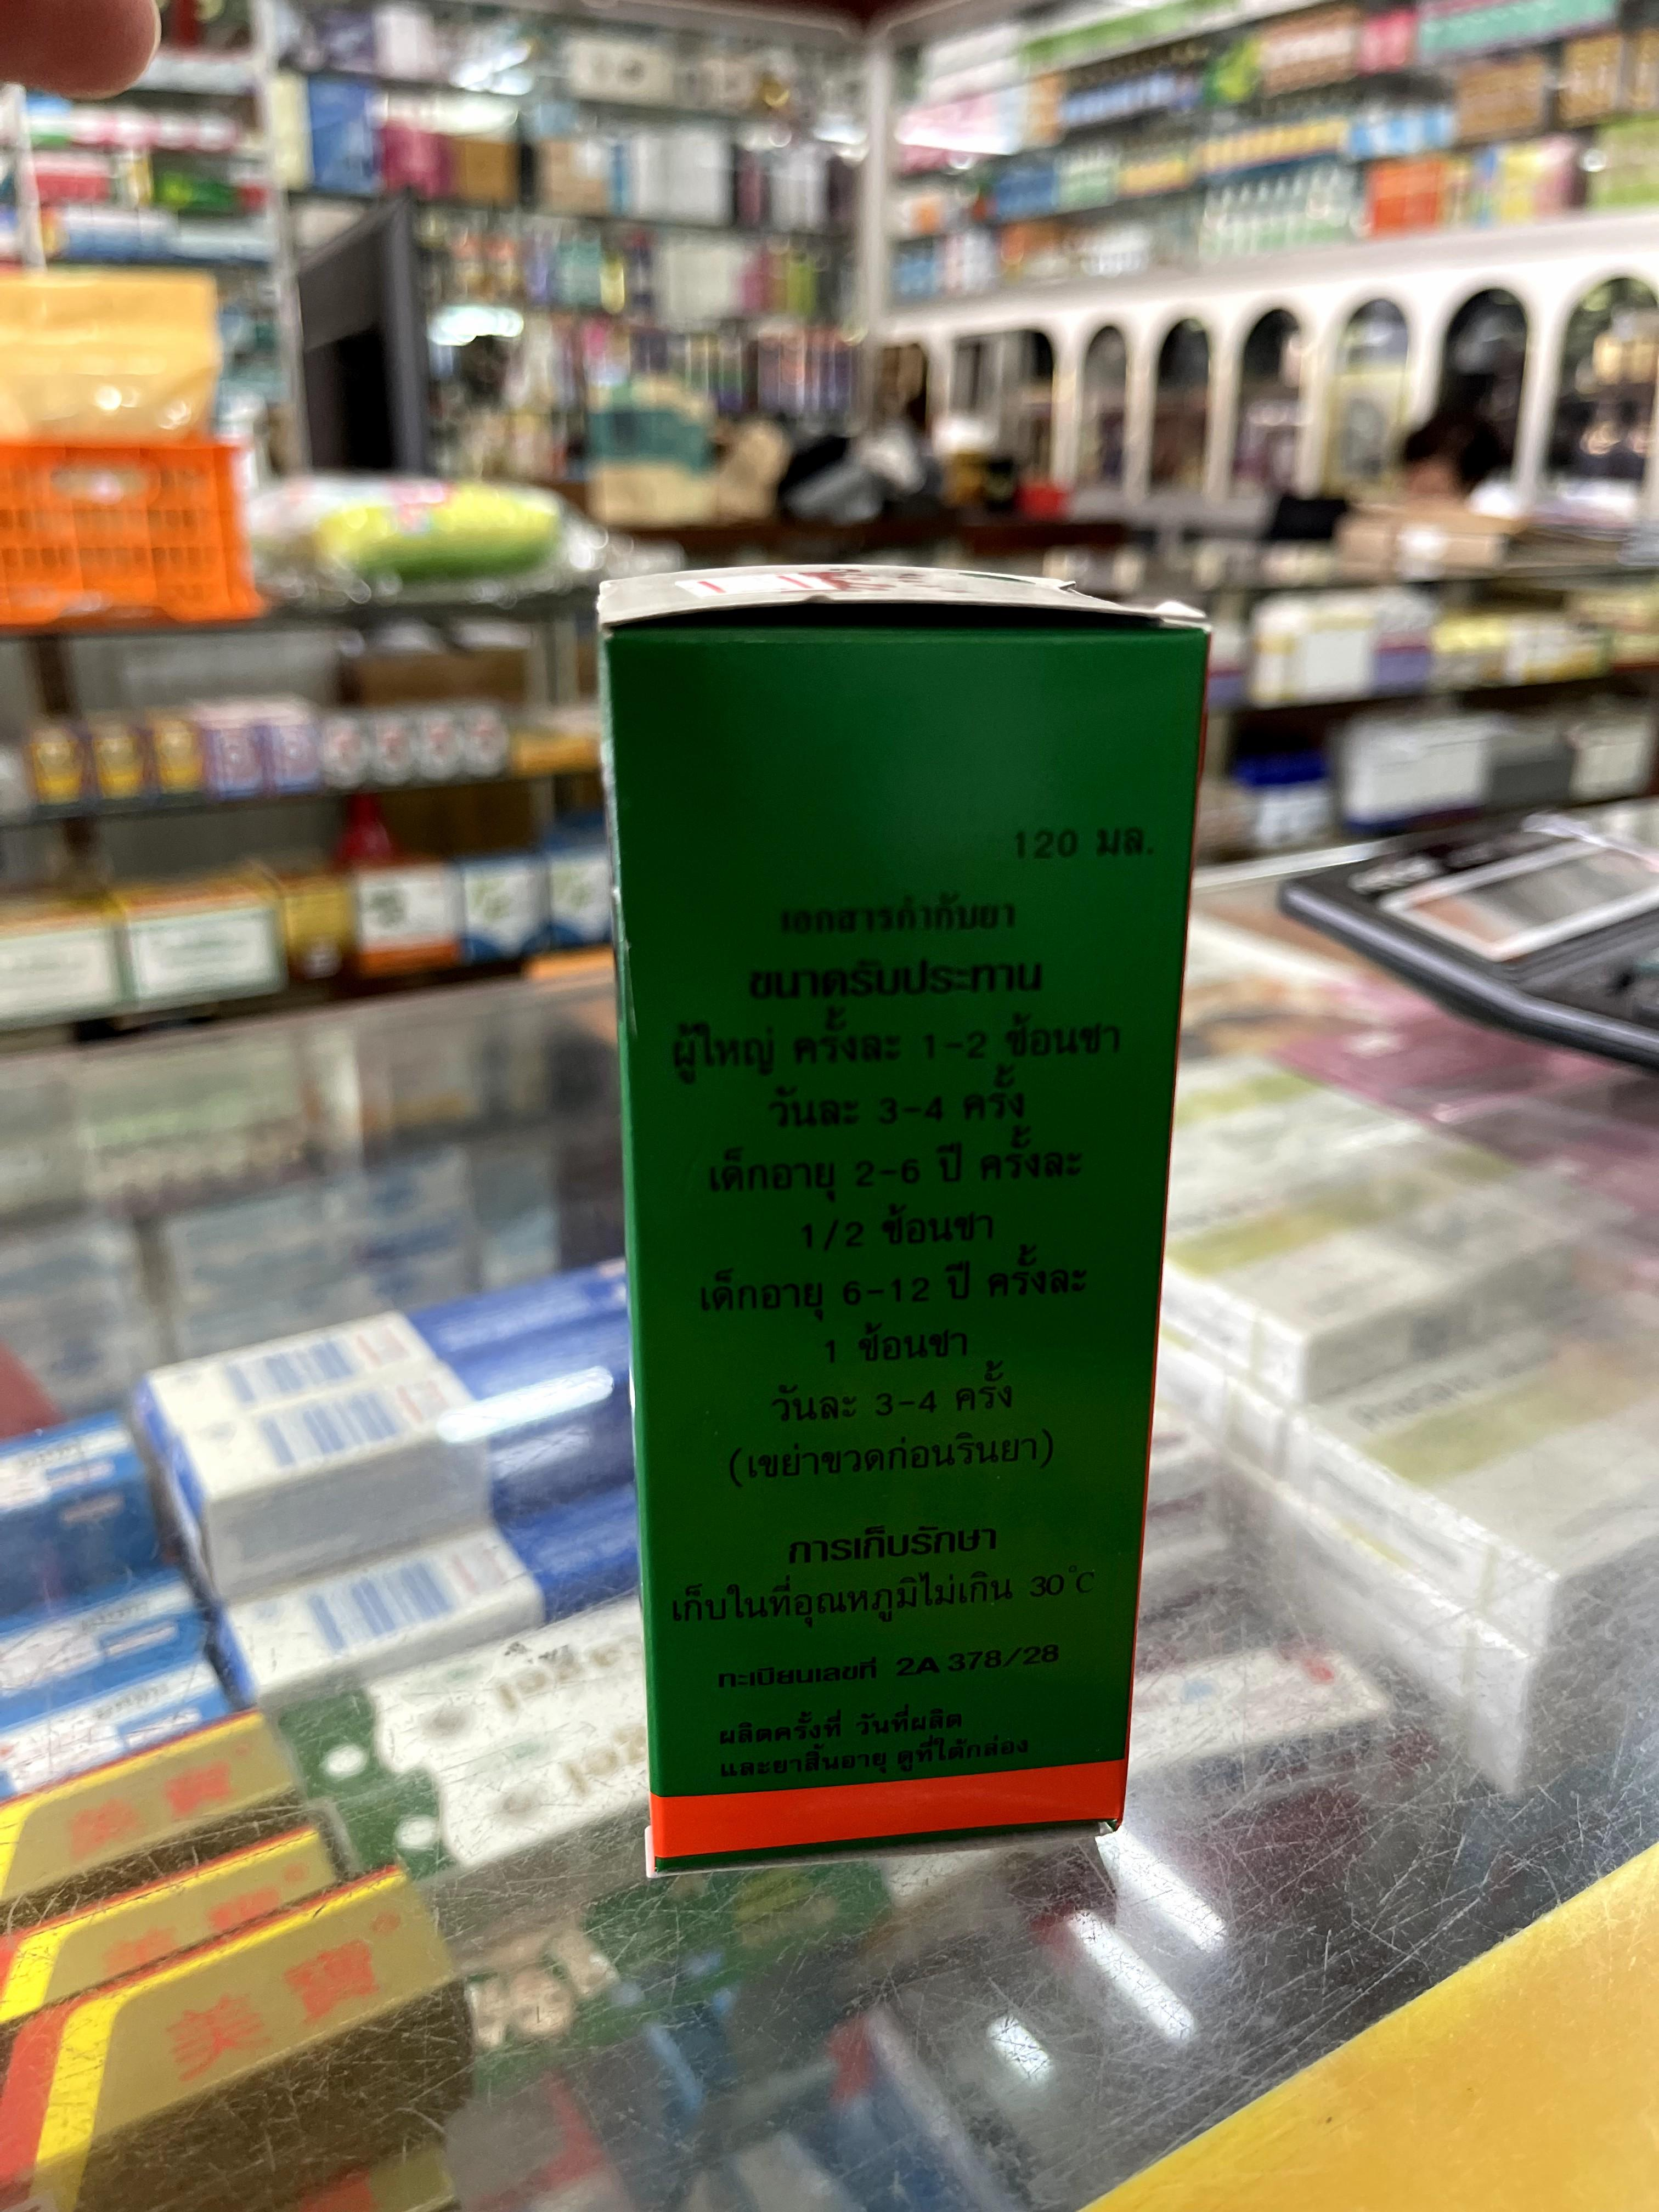Black-Tiger_Big: (603, 568, 1208, 1879)
